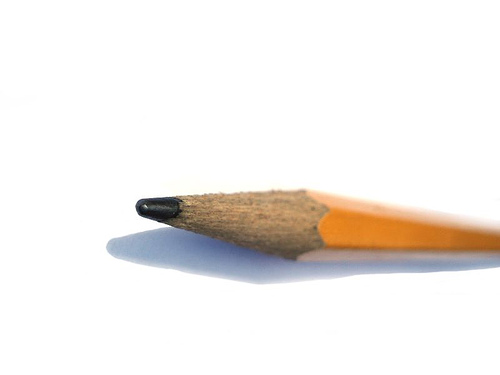pen_tip: (120, 147, 364, 276)
